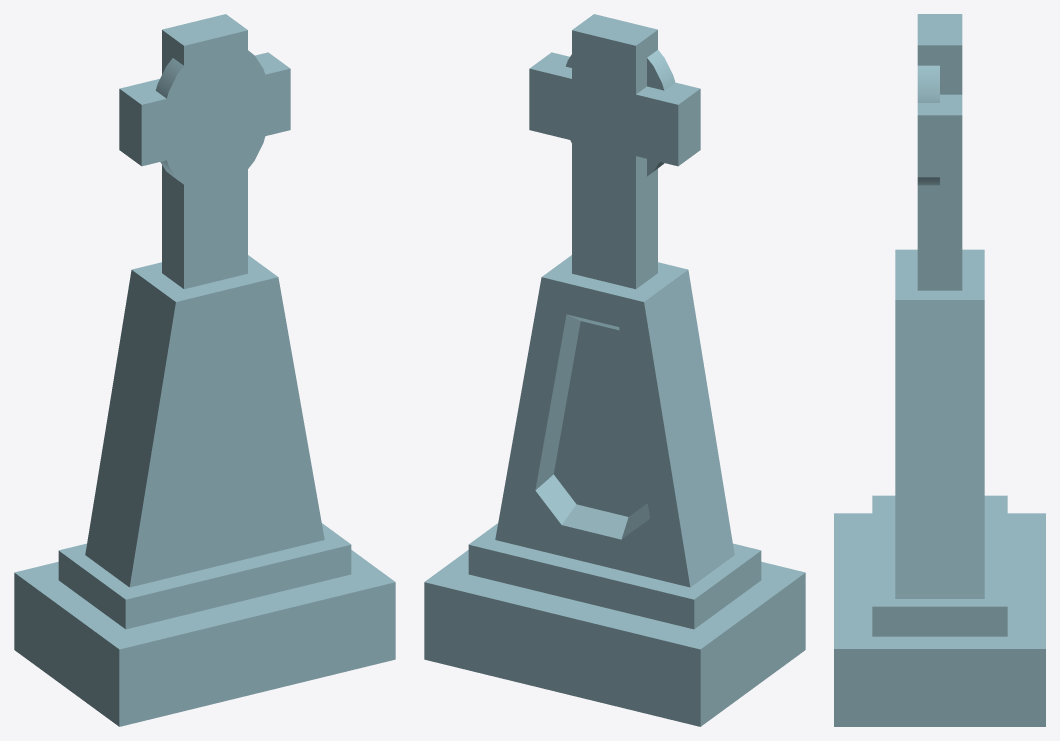
The model's file is d_kenney_croix_pierre.glb.
3 views of the same model, side by side, from view 1: azimuth 30°, elevation 25°; view 2: azimuth 150°, elevation 25°; view 3: azimuth 270°, elevation 25° (orthographic).
Visible parts, largest first — view 1: d_kenney_croix_pierre; view 2: d_kenney_croix_pierre; view 3: d_kenney_croix_pierre.
Part boxes in pixels (bbox=[...]): d_kenney_croix_pierre: bbox=[14, 14, 395, 726]; d_kenney_croix_pierre: bbox=[424, 14, 805, 726]; d_kenney_croix_pierre: bbox=[834, 14, 1045, 726].
Bounding box in the file's own units: 0.4416 × 0.9543 × 0.2913.
Materials: 1 (1 with a texture image).
